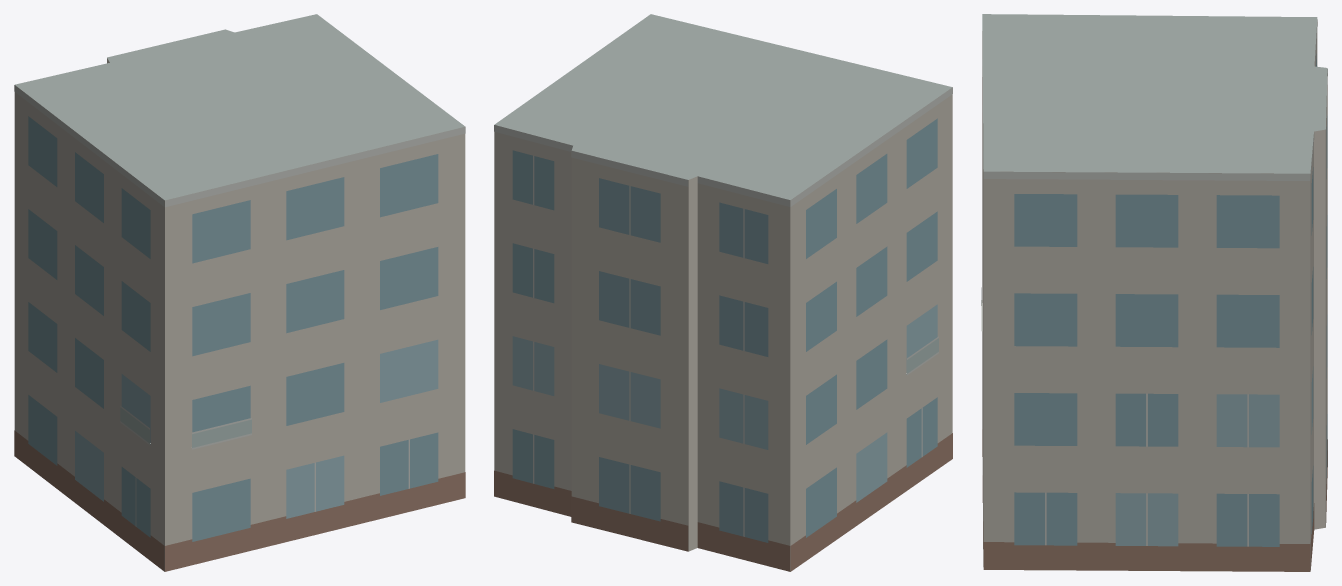
The model's file is survey-upis-32937645.glb.
3 renders of one model, left to right at view 1: azimuth 30°, elevation 25°; view 2: azimuth 150°, elevation 25°; view 3: azimuth 270°, elevation 25°, orthographic. The views are drawn at different scales.
Parts seen in each view (by area): view 1: survey-upis-32937645.tmp; view 2: survey-upis-32937645.tmp; view 3: survey-upis-32937645.tmp.
Part boxes in pixels (x1,y1,x2,y2): survey-upis-32937645.tmp: [14, 14, 465, 571]; survey-upis-32937645.tmp: [494, 14, 952, 571]; survey-upis-32937645.tmp: [981, 14, 1327, 571].
Size of the model in its own units: 11.29 by 13.1 by 10.34.
